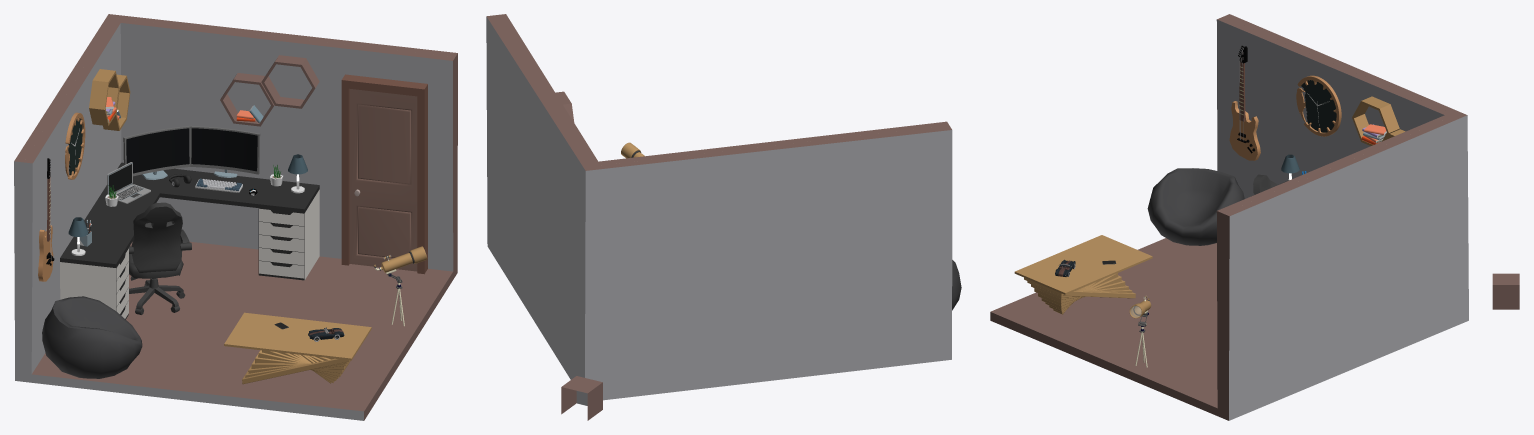
File: Final Version.glb
The picture shows the model from 3 angles, left to right: view 1: azimuth 30°, elevation 25°; view 2: azimuth 150°, elevation 25°; view 3: azimuth 270°, elevation 25°; orthographic projection. The views are drawn at different scales.
Visible parts, largest first — view 1: Body, Door, Table main, Screens, Table, Cushion Bag, Office Chair, Shelves, Clock, Guitar, Telescope, Lamps (+2 smaller); view 2: Body, Cube; view 3: Body, Table, Cushion Bag, Clock, Guitar, Shelves, Cube, Telescope.
Part boxes in pixels (bbox=[...]): Body: bbox=[14, 14, 457, 420]; Door: bbox=[341, 74, 427, 274]; Table main: bbox=[60, 162, 319, 319]; Screens: bbox=[107, 125, 260, 203]; Table: bbox=[224, 312, 371, 384]; Cushion Bag: bbox=[42, 296, 142, 378]; Office Chair: bbox=[129, 202, 191, 314]; Shelves: bbox=[89, 55, 319, 130]; Clock: bbox=[65, 112, 85, 179]; Guitar: bbox=[38, 158, 54, 281]; Telescope: bbox=[374, 246, 427, 326]; Lamps: bbox=[68, 154, 307, 255]; Body: bbox=[486, 14, 952, 400]; Cube: bbox=[561, 376, 602, 420]; Body: bbox=[990, 14, 1468, 420]; Table: bbox=[1014, 235, 1152, 314]; Cushion Bag: bbox=[1147, 168, 1244, 245]; Clock: bbox=[1296, 75, 1341, 136]; Guitar: bbox=[1229, 45, 1260, 160]; Shelves: bbox=[1352, 96, 1405, 145]; Cube: bbox=[1492, 273, 1519, 309]; Telescope: bbox=[1129, 295, 1151, 367].
Size of the model in its own units: 4.78 by 2.26 by 5.29.
57 materials, 4 textured.
